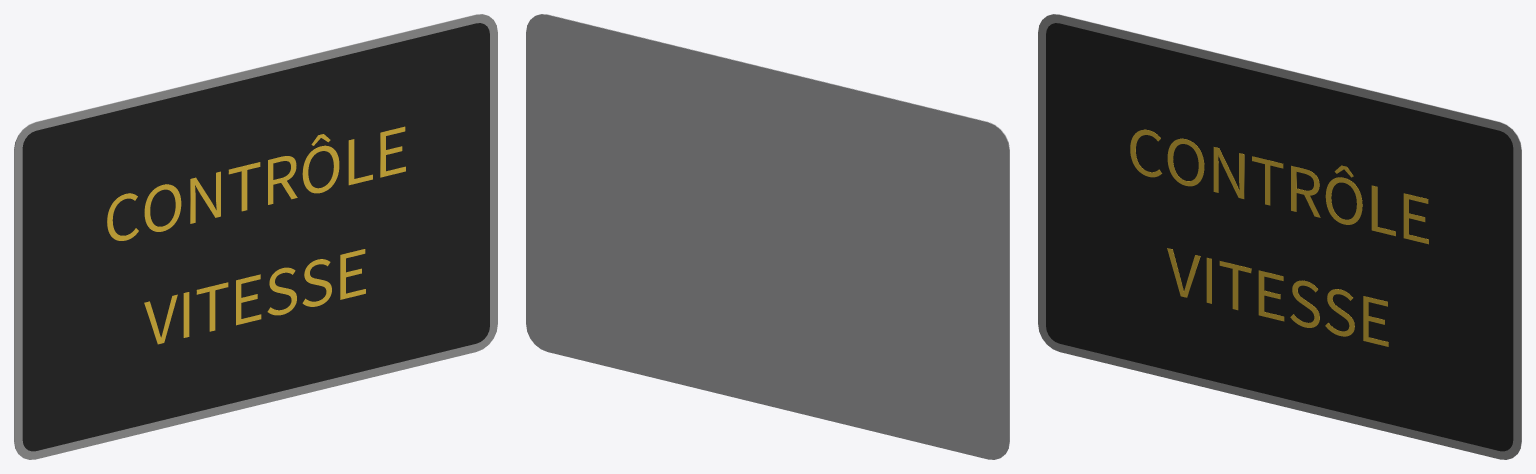
3 views of the same model, side by side, from view 1: azimuth 30°, elevation 25°; view 2: azimuth 150°, elevation 25°; view 3: azimuth 330°, elevation 25° (orthographic).
Visible parts, largest first — view 1: X3b_r01, X3b_r00, X3b_txt02, X3b_txt03, X3b_dos; view 2: X3b_dos, X3b_r00; view 3: X3b_r01, X3b_r00, X3b_txt02, X3b_txt03, X3b_dos.
Part boxes in pixels (x1,y1,x2,y2): X3b_r01: (22, 23, 489, 451); X3b_r00: (14, 14, 497, 459); X3b_txt02: (107, 126, 405, 240); X3b_txt03: (144, 249, 365, 344); X3b_dos: (14, 14, 487, 452); X3b_dos: (526, 14, 1009, 459); X3b_r00: (542, 14, 1009, 448); X3b_r01: (1046, 23, 1513, 451); X3b_r00: (1038, 14, 1521, 459); X3b_txt02: (1130, 129, 1428, 244); X3b_txt03: (1167, 248, 1388, 346); X3b_dos: (1048, 14, 1521, 452).
Size of the model in its own units: 0.9 by 0.6 by 0.0029.
